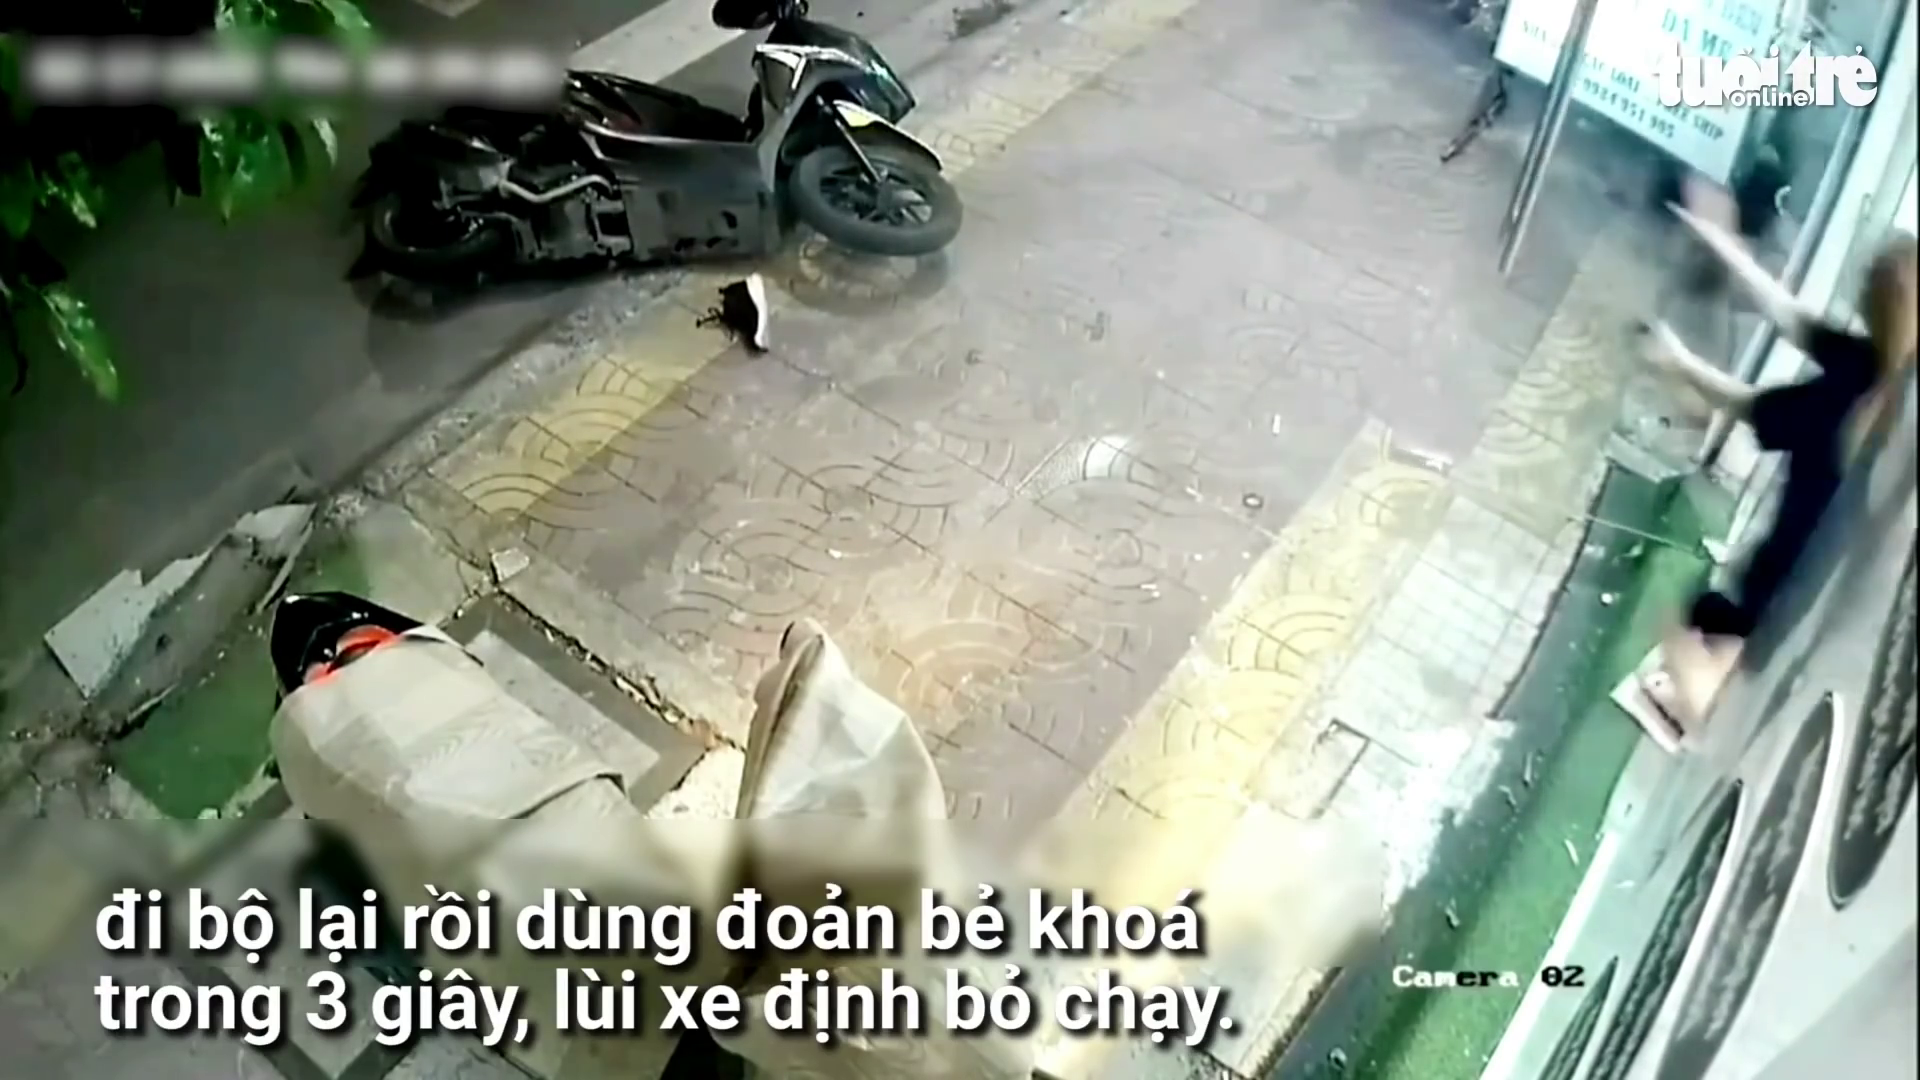Motorcycle: (344, 1, 965, 287)
